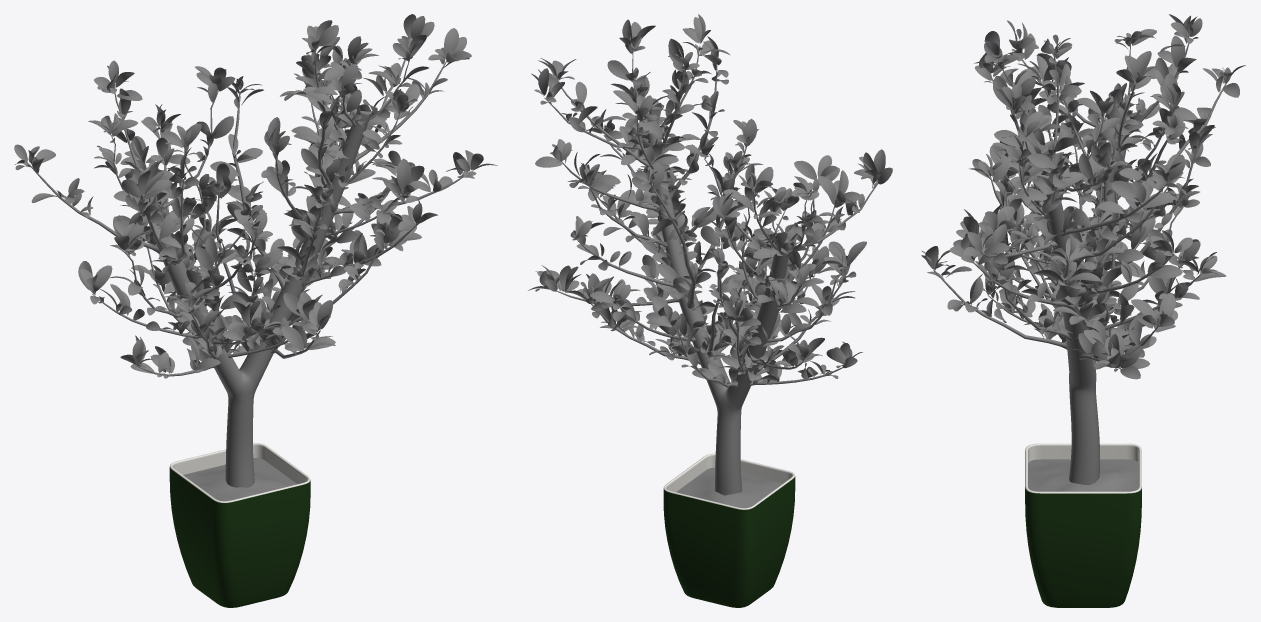
Rendered from bonzai.FBX.
The picture shows the model from 3 angles, left to right: view 1: azimuth 30°, elevation 25°; view 2: azimuth 150°, elevation 25°; view 3: azimuth 270°, elevation 25°; orthographic projection. The views are drawn at different scales.
Visible parts, largest first — view 1: archmodels66_021_003, archmodels66_021_004, archmodels66_021_001, archmodels66_021_002, archmodels66_021_005; view 2: archmodels66_021_003, archmodels66_021_004, archmodels66_021_002, archmodels66_021_001, archmodels66_021_005; view 3: archmodels66_021_003, archmodels66_021_004, archmodels66_021_002, archmodels66_021_001, archmodels66_021_005.
Boxes of the visible parts, bbox=[...] form: archmodels66_021_003: bbox=[14, 14, 497, 378]; archmodels66_021_004: bbox=[169, 443, 310, 607]; archmodels66_021_001: bbox=[146, 110, 371, 487]; archmodels66_021_002: bbox=[28, 52, 464, 376]; archmodels66_021_005: bbox=[183, 458, 296, 501]; archmodels66_021_003: bbox=[528, 14, 892, 385]; archmodels66_021_004: bbox=[663, 453, 795, 607]; archmodels66_021_002: bbox=[544, 45, 878, 387]; archmodels66_021_001: bbox=[644, 113, 788, 495]; archmodels66_021_005: bbox=[676, 467, 782, 508]; archmodels66_021_003: bbox=[921, 14, 1245, 379]; archmodels66_021_004: bbox=[1025, 443, 1141, 607]; archmodels66_021_002: bbox=[933, 44, 1226, 369]; archmodels66_021_001: bbox=[1038, 126, 1128, 484]; archmodels66_021_005: bbox=[1028, 459, 1138, 491].
Size of the model in its own units: 47.63 by 67.97 by 33.42.
